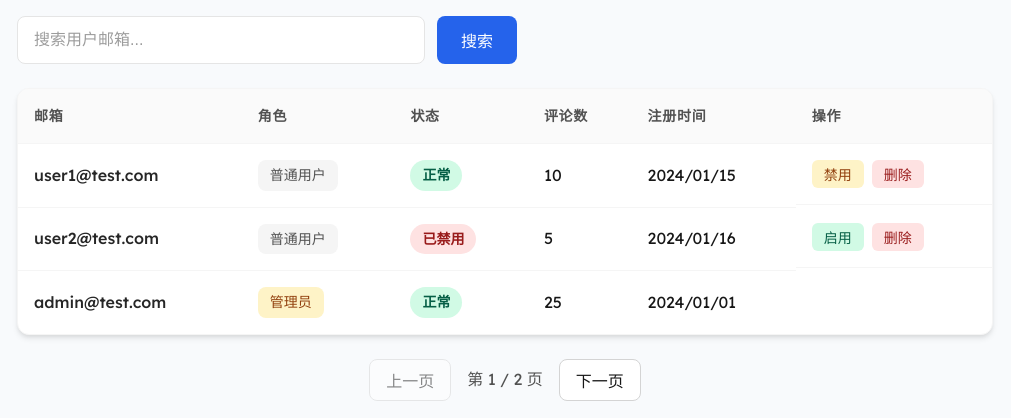
Test: UserManagement › disables next button on last page
The image size is (1011, 418).
Expected: the text "第 1 / 2 页" is shown, [467, 367, 543, 392]
Click the button "下一页" at (600, 380), box [559, 359, 641, 401]
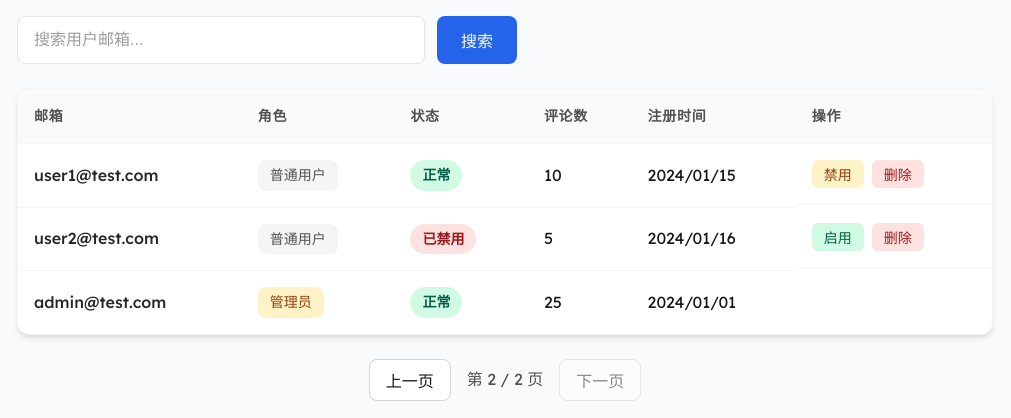
Expected: the text "第 2 / 2 页" is shown, [467, 367, 543, 392]
Expected: the button "下一页" is disabled, [559, 359, 641, 401]
